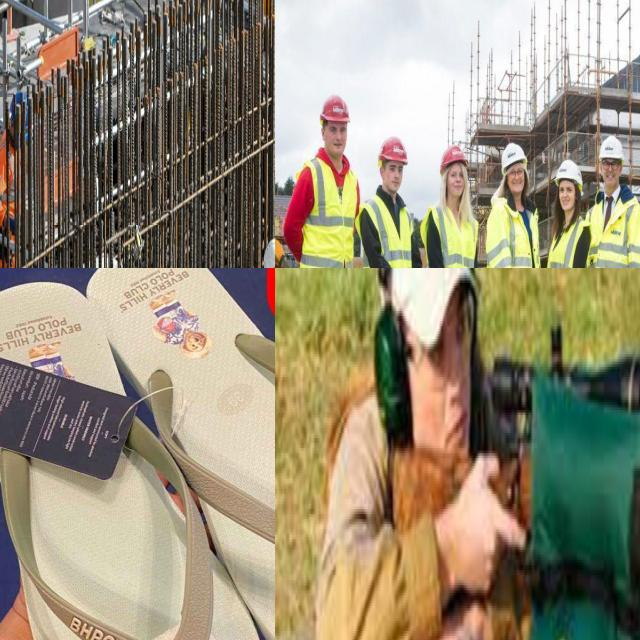Ear-protection: (375, 268, 488, 501)
Sandals: (0, 268, 275, 640)
face_nomask: (318, 122, 351, 158), (378, 160, 404, 197), (504, 164, 532, 194), (602, 158, 624, 192), (444, 167, 466, 201), (558, 178, 578, 210)
glasses: (506, 166, 524, 182), (600, 160, 622, 172)
head_helmet: (320, 95, 350, 124), (556, 158, 583, 188), (379, 137, 407, 165), (500, 142, 528, 168), (440, 144, 469, 169), (598, 134, 622, 162), (261, 233, 275, 268)
person: (317, 268, 522, 640), (295, 92, 363, 268), (358, 134, 427, 268), (484, 141, 542, 268), (424, 145, 479, 268), (590, 136, 640, 268), (545, 157, 588, 268)
vest: (295, 157, 359, 268), (357, 187, 416, 268), (584, 192, 640, 268), (484, 198, 541, 268), (426, 208, 484, 268), (547, 212, 587, 268)
